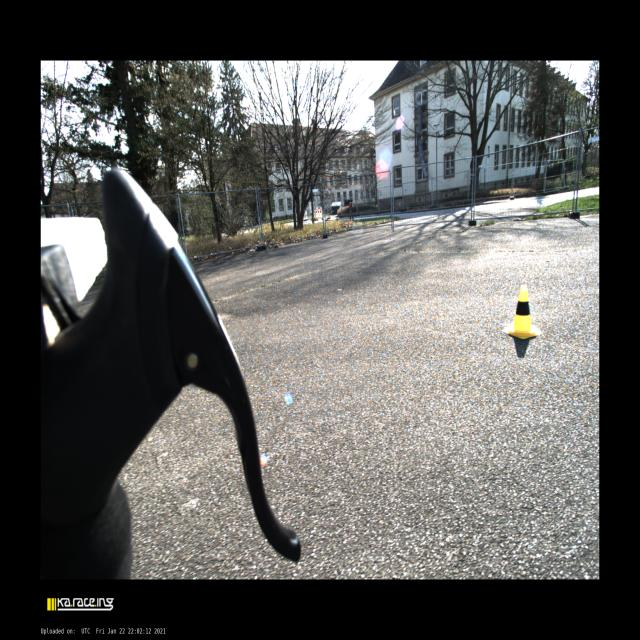yellow_cone: (503, 285, 541, 339)
